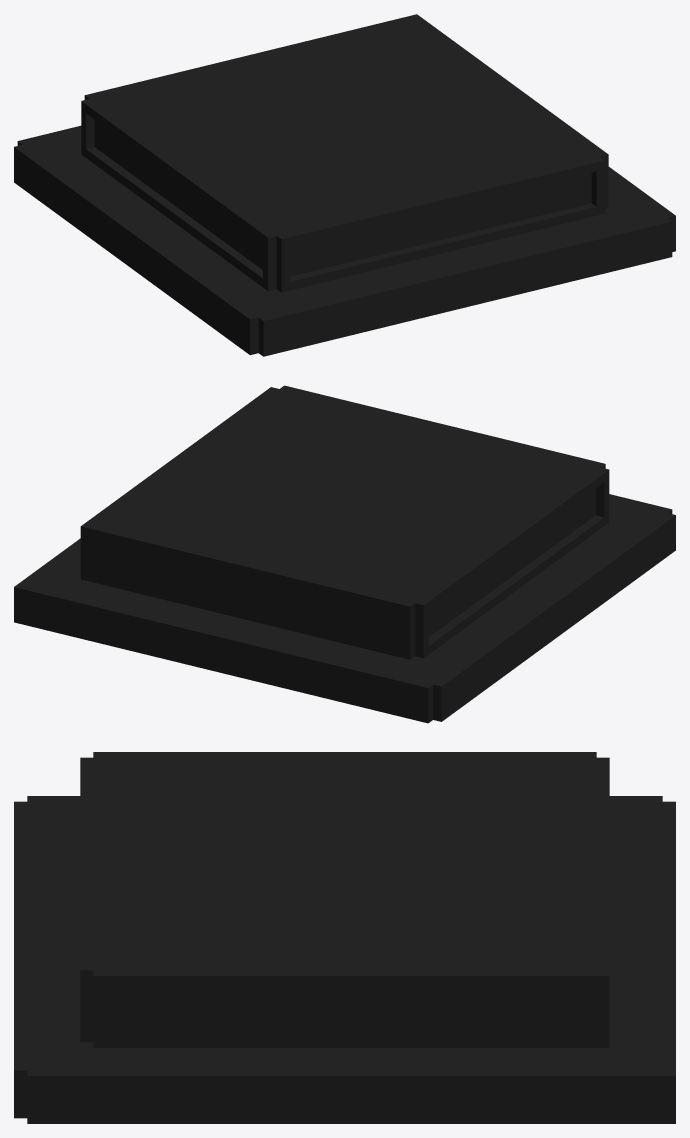
Rendered from AllSimpleModel-6-Base.obj.
The picture shows the model from 3 angles, top to bottom: view 1: azimuth 30°, elevation 25°; view 2: azimuth 150°, elevation 25°; view 3: azimuth 270°, elevation 25°; orthographic projection. The views are drawn at different scales.
Visible parts, largest first — view 1: Base; view 2: Base; view 3: Base.
Part boxes in pixels (x1,y1,x2,y2): Base: (14,14,675,356); Base: (14,385,675,723); Base: (14,752,675,1123).
Bounding box in the file's own units: 5 × 1 × 5.
Materials: 1 (1 with a texture image).
